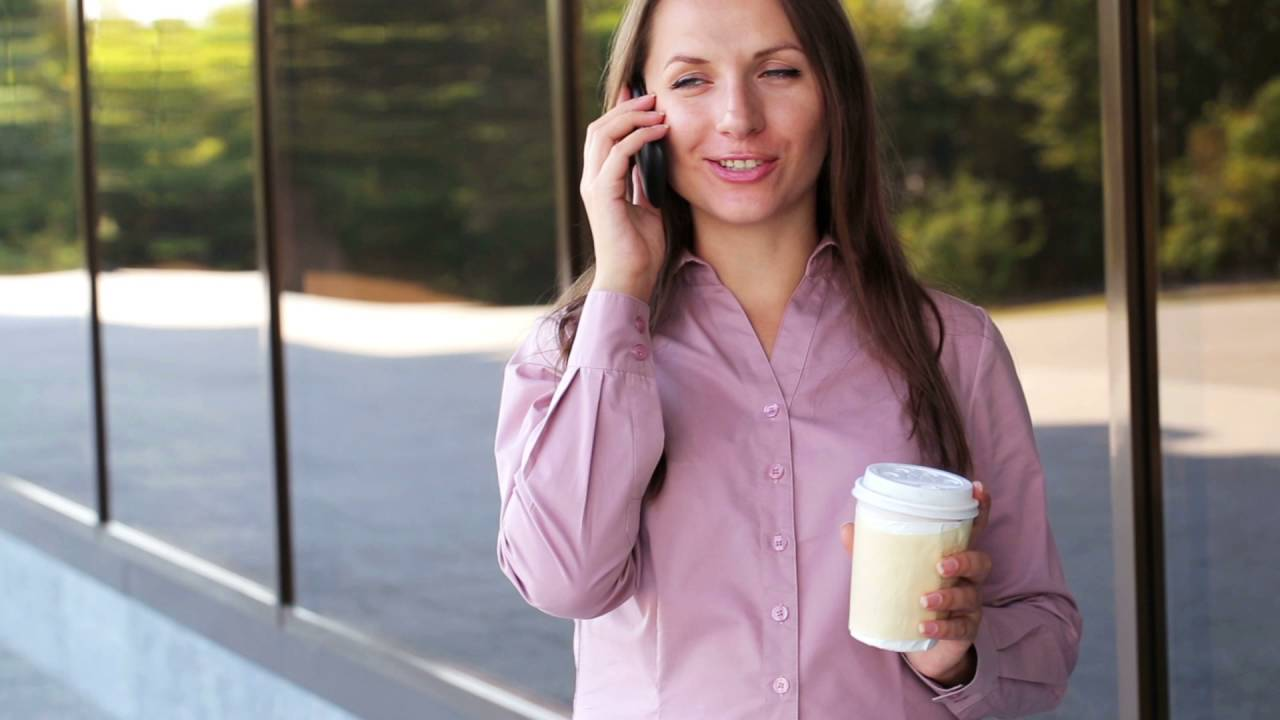phone: (580, 83, 684, 230)
talk: (574, 46, 817, 251)
